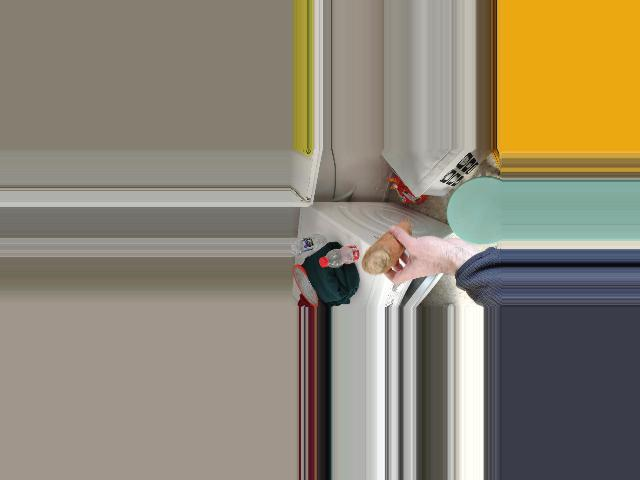sweet_potato: (363, 216, 411, 279)
